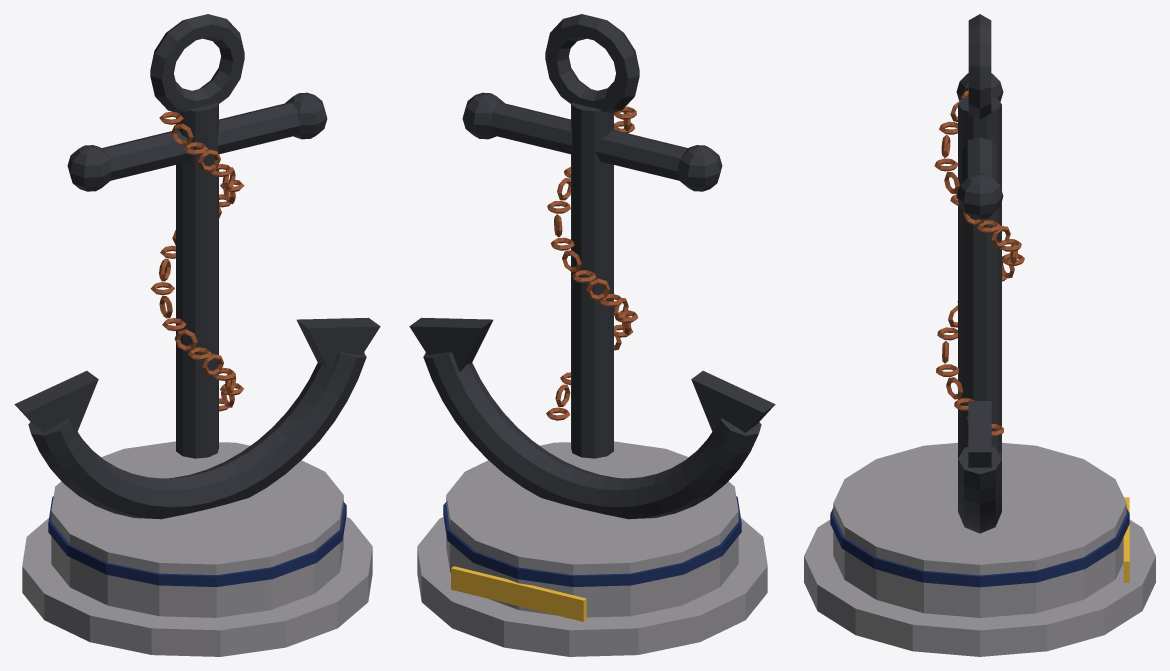
The model's file is AnchorMonument.fbx.
3 renders of one model, left to right at view 1: azimuth 30°, elevation 25°; view 2: azimuth 150°, elevation 25°; view 3: azimuth 270°, elevation 25°, orthographic.
Parts seen in each view (by area): view 1: AnchorMonument_Charcoal, AnchorMonument_Stone, AnchorMonument_Rust, AnchorMonument_Navy; view 2: AnchorMonument_Charcoal, AnchorMonument_Stone, AnchorMonument_Navy, AnchorMonument_Rust, AnchorMonument_Gold; view 3: AnchorMonument_Stone, AnchorMonument_Charcoal, AnchorMonument_Navy, AnchorMonument_Rust.
Part boxes in pixels (left/top/right/bottom): AnchorMonument_Charcoal: left=14, top=14, right=380, bottom=519; AnchorMonument_Stone: left=22, top=441, right=372, bottom=656; AnchorMonument_Rust: left=150, top=111, right=244, bottom=411; AnchorMonument_Navy: left=48, top=496, right=346, bottom=586; AnchorMonument_Charcoal: left=409, top=14, right=775, bottom=519; AnchorMonument_Stone: left=417, top=441, right=767, bottom=656; AnchorMonument_Navy: left=443, top=496, right=741, bottom=586; AnchorMonument_Rust: left=546, top=106, right=638, bottom=420; AnchorMonument_Gold: left=451, top=566, right=586, bottom=621; AnchorMonument_Stone: left=804, top=442, right=1155, bottom=656; AnchorMonument_Charcoal: left=956, top=14, right=1003, bottom=533; AnchorMonument_Navy: left=830, top=508, right=1129, bottom=587; AnchorMonument_Rust: left=934, top=90, right=1024, bottom=436.
Bounding box in the file's own units: 13.89 × 21.2 × 12.
